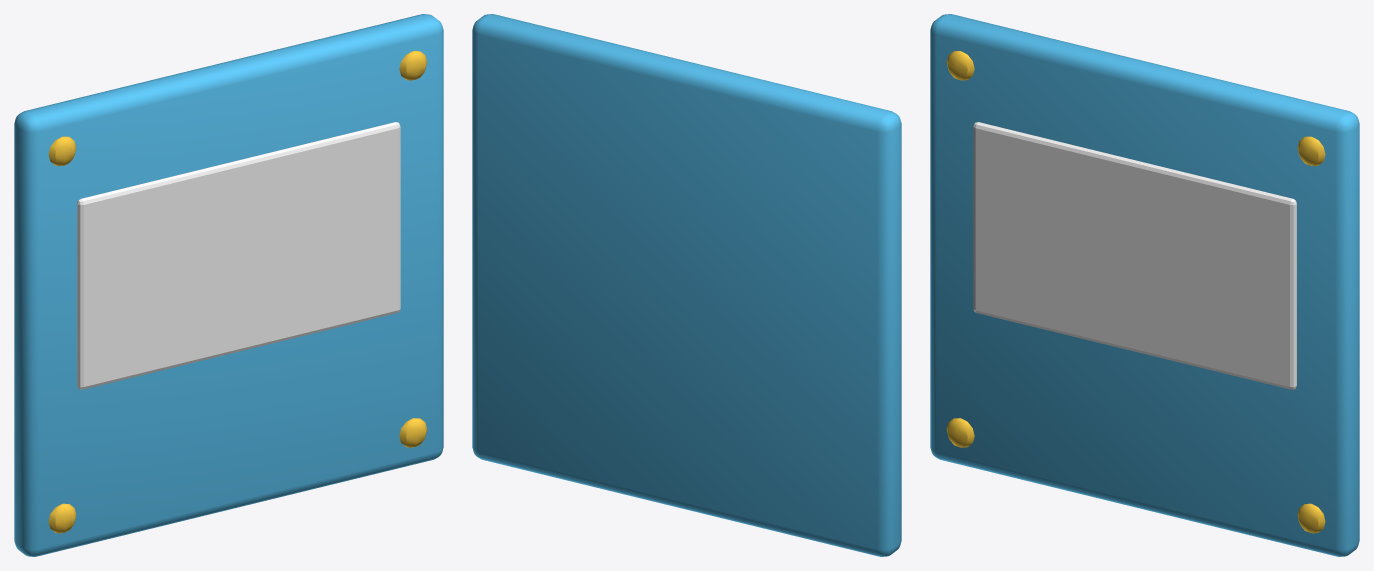
The model's file is door_panel.glb.
The picture shows the model from 3 angles, left to right: view 1: azimuth 30°, elevation 25°; view 2: azimuth 150°, elevation 25°; view 3: azimuth 330°, elevation 25°; orthographic projection.
Visible parts, largest first — view 1: door_panel; view 2: door_panel; view 3: door_panel.
Boxes of the visible parts, x1,y1,x2,y2 form: door_panel: (14, 14, 443, 556); door_panel: (472, 14, 901, 556); door_panel: (930, 14, 1359, 556).
Size of the model in its own units: 3 by 3 by 0.27.
